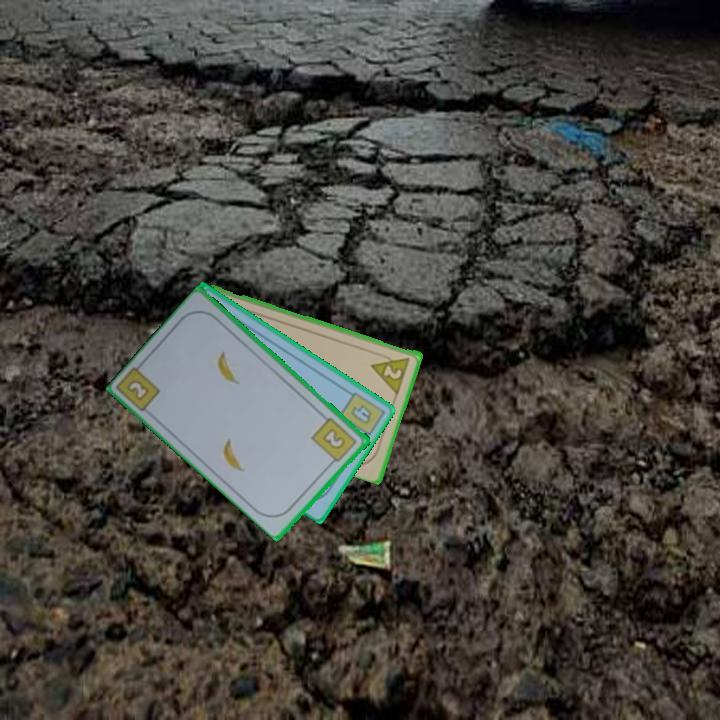2b: (308, 414, 360, 468), (124, 376, 152, 404)
2p: (368, 348, 413, 396)
4b: (336, 388, 387, 443)
